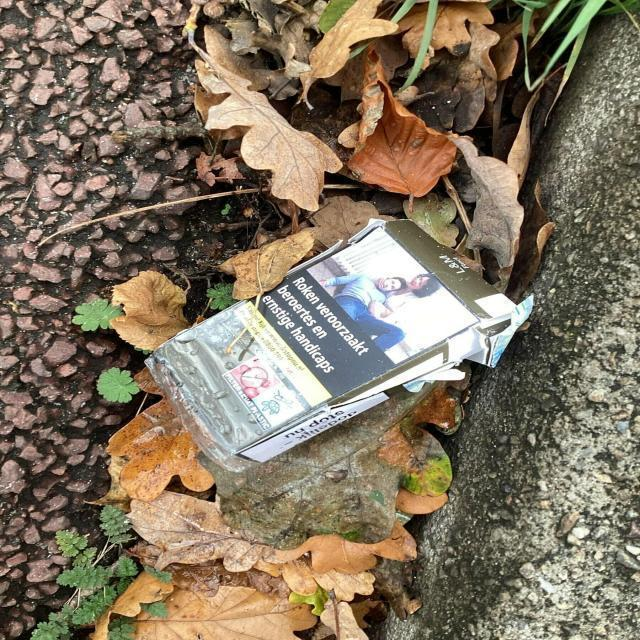Paper: (138, 212, 536, 474)
